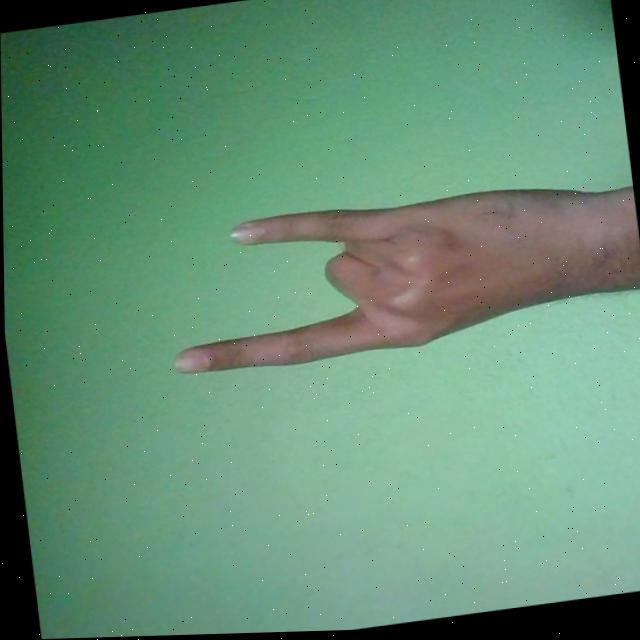Rock On: (154, 171, 637, 382)
